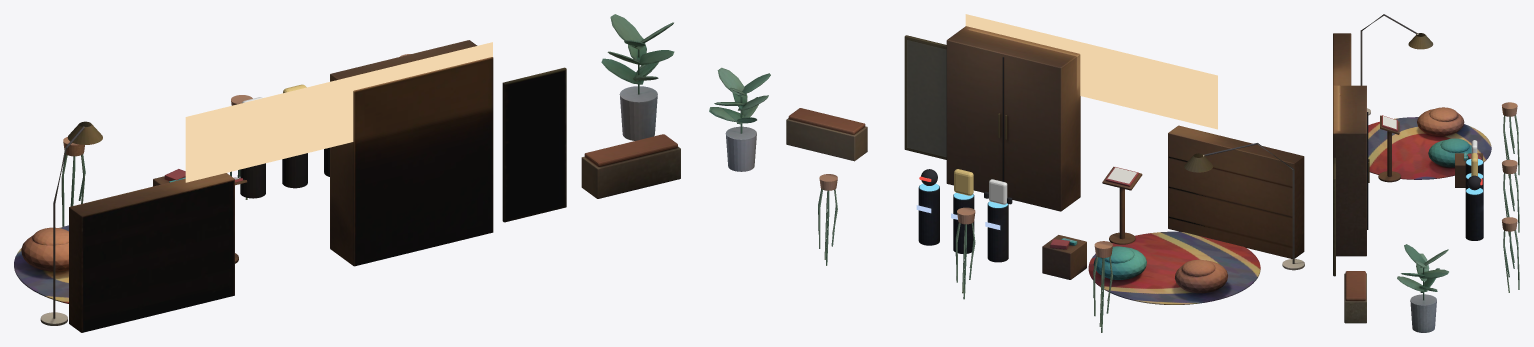
The model's file is mezz.glb.
3 renders of one model, left to right at view 1: azimuth 30°, elevation 25°; view 2: azimuth 150°, elevation 25°; view 3: azimuth 270°, elevation 25°, orthographic. The views are drawn at different scales.
Visible parts, largest first — view 1: mezz_baked, screen_nastaliq; view 2: mezz_baked, screen_nastaliq, mirror, unlock_gold_hoodie; view 3: mezz_baked, unlock_visor_helmet, unlock_gold_hoodie.
Boxes of the visible parts, bbox=[...] form: mezz_baked: bbox=[14, 14, 680, 332]; screen_nastaliq: bbox=[185, 42, 492, 182]; mezz_baked: bbox=[709, 26, 1304, 332]; screen_nastaliq: bbox=[965, 14, 1217, 129]; mirror: bbox=[907, 40, 946, 156]; unlock_gold_hoodie: bbox=[954, 169, 973, 195]; mezz_baked: bbox=[1333, 14, 1519, 332]; unlock_visor_helmet: bbox=[1467, 175, 1481, 190]; unlock_gold_hoodie: bbox=[1471, 153, 1477, 176].
Size of the model in its own units: 9.63 by 3 by 3.3.
12 materials, 1 textured.
